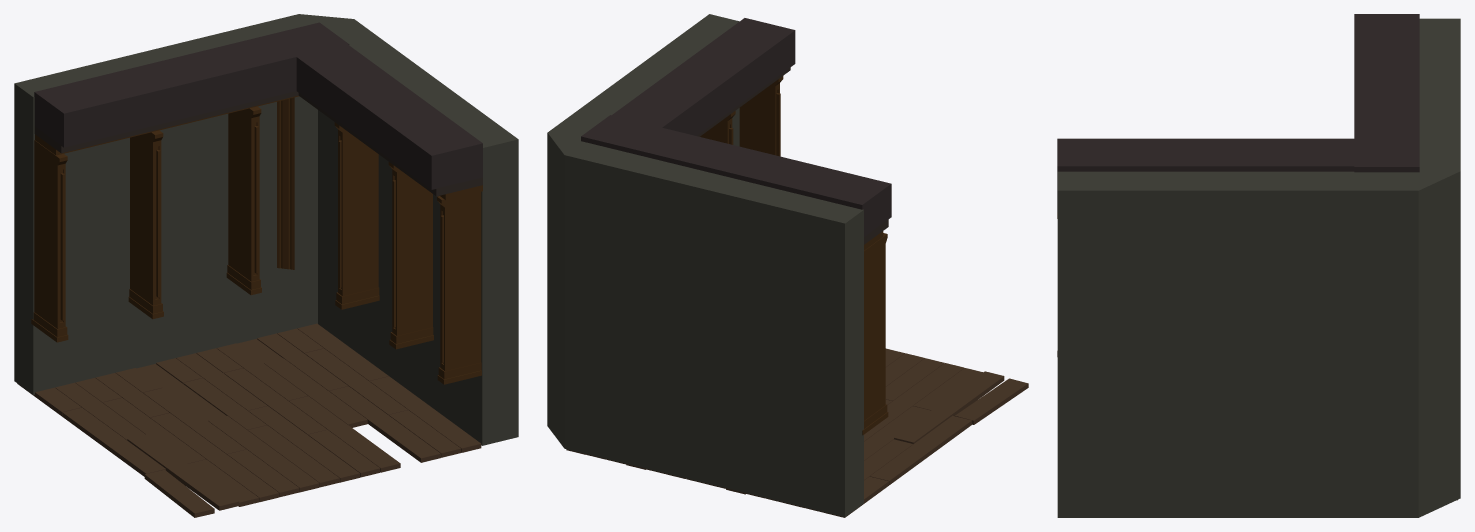
The model's file is HabitacionBiblioteca.fbx.
3 views of the same model, side by side, from view 1: azimuth 30°, elevation 25°; view 2: azimuth 150°, elevation 25°; view 3: azimuth 270°, elevation 25° (orthographic). The views are drawn at different scales.
Parts seen in each view (by area): view 1: Muros, Suelo.002, Estructura1, Estructura2, Viga1, Viga2.001; view 2: Muros, Suelo.002, Viga2.001, Viga1, Estructura2, Estructura1; view 3: Muros, Viga2.001, Viga1.
Boxes of the visible parts, box(x1,y1,x2,y2) form: Muros: box(14, 14, 518, 445); Suelo.002: box(17, 323, 481, 517); Estructura1: box(277, 93, 482, 384); Estructura2: box(31, 91, 298, 342); Viga1: box(34, 22, 349, 147); Viga2.001: box(267, 23, 482, 189); Muros: box(547, 14, 863, 516); Suelo.002: box(566, 348, 1028, 517); Viga2.001: box(583, 18, 795, 148); Viga1: box(581, 115, 891, 236); Estructura2: box(862, 219, 888, 435); Estructura1: box(697, 67, 790, 156); Muros: box(1057, 18, 1460, 517); Viga2.001: box(1057, 138, 1419, 203); Viga1: box(1354, 14, 1419, 172).
Size of the model in its own units: 368 by 332 by 362.
